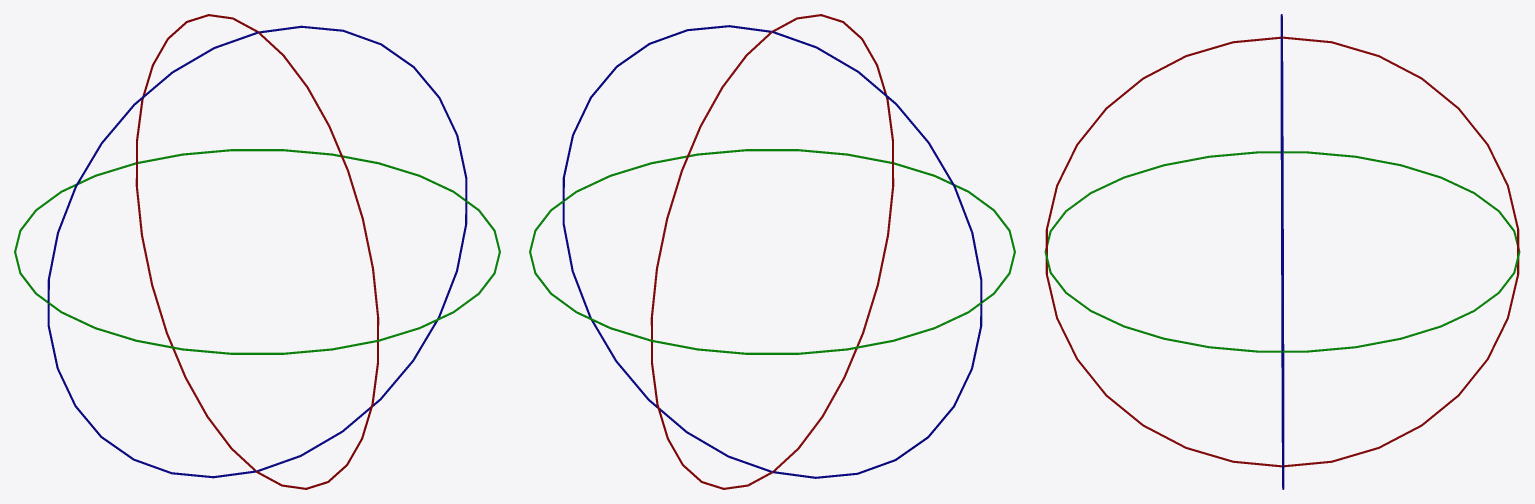
Rendered from ArrowRotate.DAE.
The picture shows the model from 3 angles, left to right: view 1: azimuth 30°, elevation 25°; view 2: azimuth 150°, elevation 25°; view 3: azimuth 270°, elevation 25°; orthographic projection. The views are drawn at different scales.
Visible parts, largest first — view 1: XAXIS, YAXIS, ZAXIS; view 2: XAXIS, YAXIS, ZAXIS; view 3: ZAXIS, YAXIS, XAXIS.
Part boxes in pixels (x1,y1,x2,y2): XAXIS: (47, 25, 467, 478); YAXIS: (14, 149, 500, 354); ZAXIS: (135, 14, 379, 489); XAXIS: (562, 25, 982, 478); YAXIS: (529, 149, 1015, 354); ZAXIS: (650, 14, 894, 489); ZAXIS: (1045, 36, 1519, 467); YAXIS: (1044, 151, 1520, 352); XAXIS: (1280, 14, 1284, 489).
Size of the model in its own units: 3.51 by 3.53 by 3.53.
